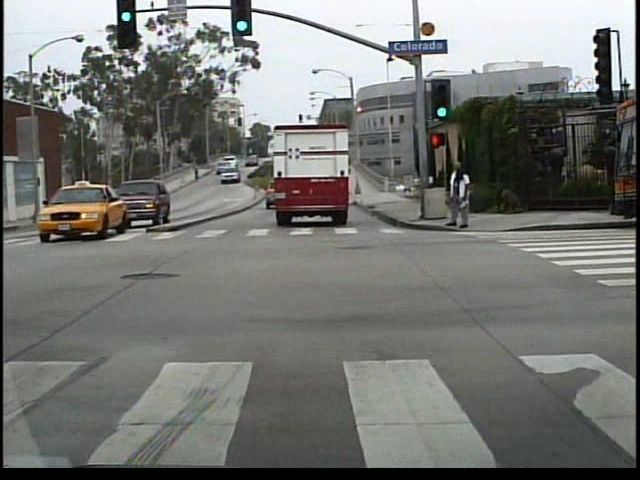person: (446, 159, 473, 231)
